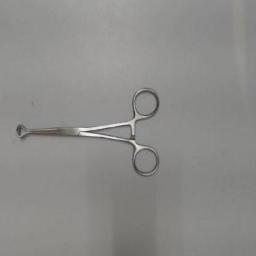Babcock Tissue Forceps: (13, 84, 161, 178)
